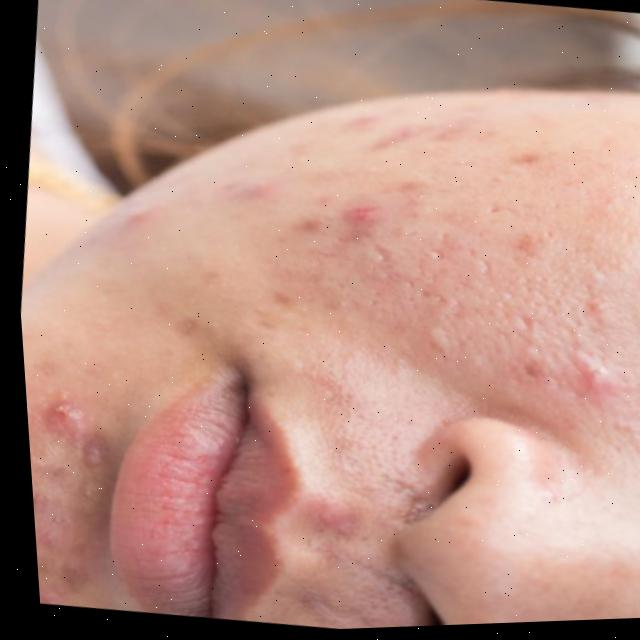Acne: (177, 59, 609, 415), (25, 375, 111, 588)
